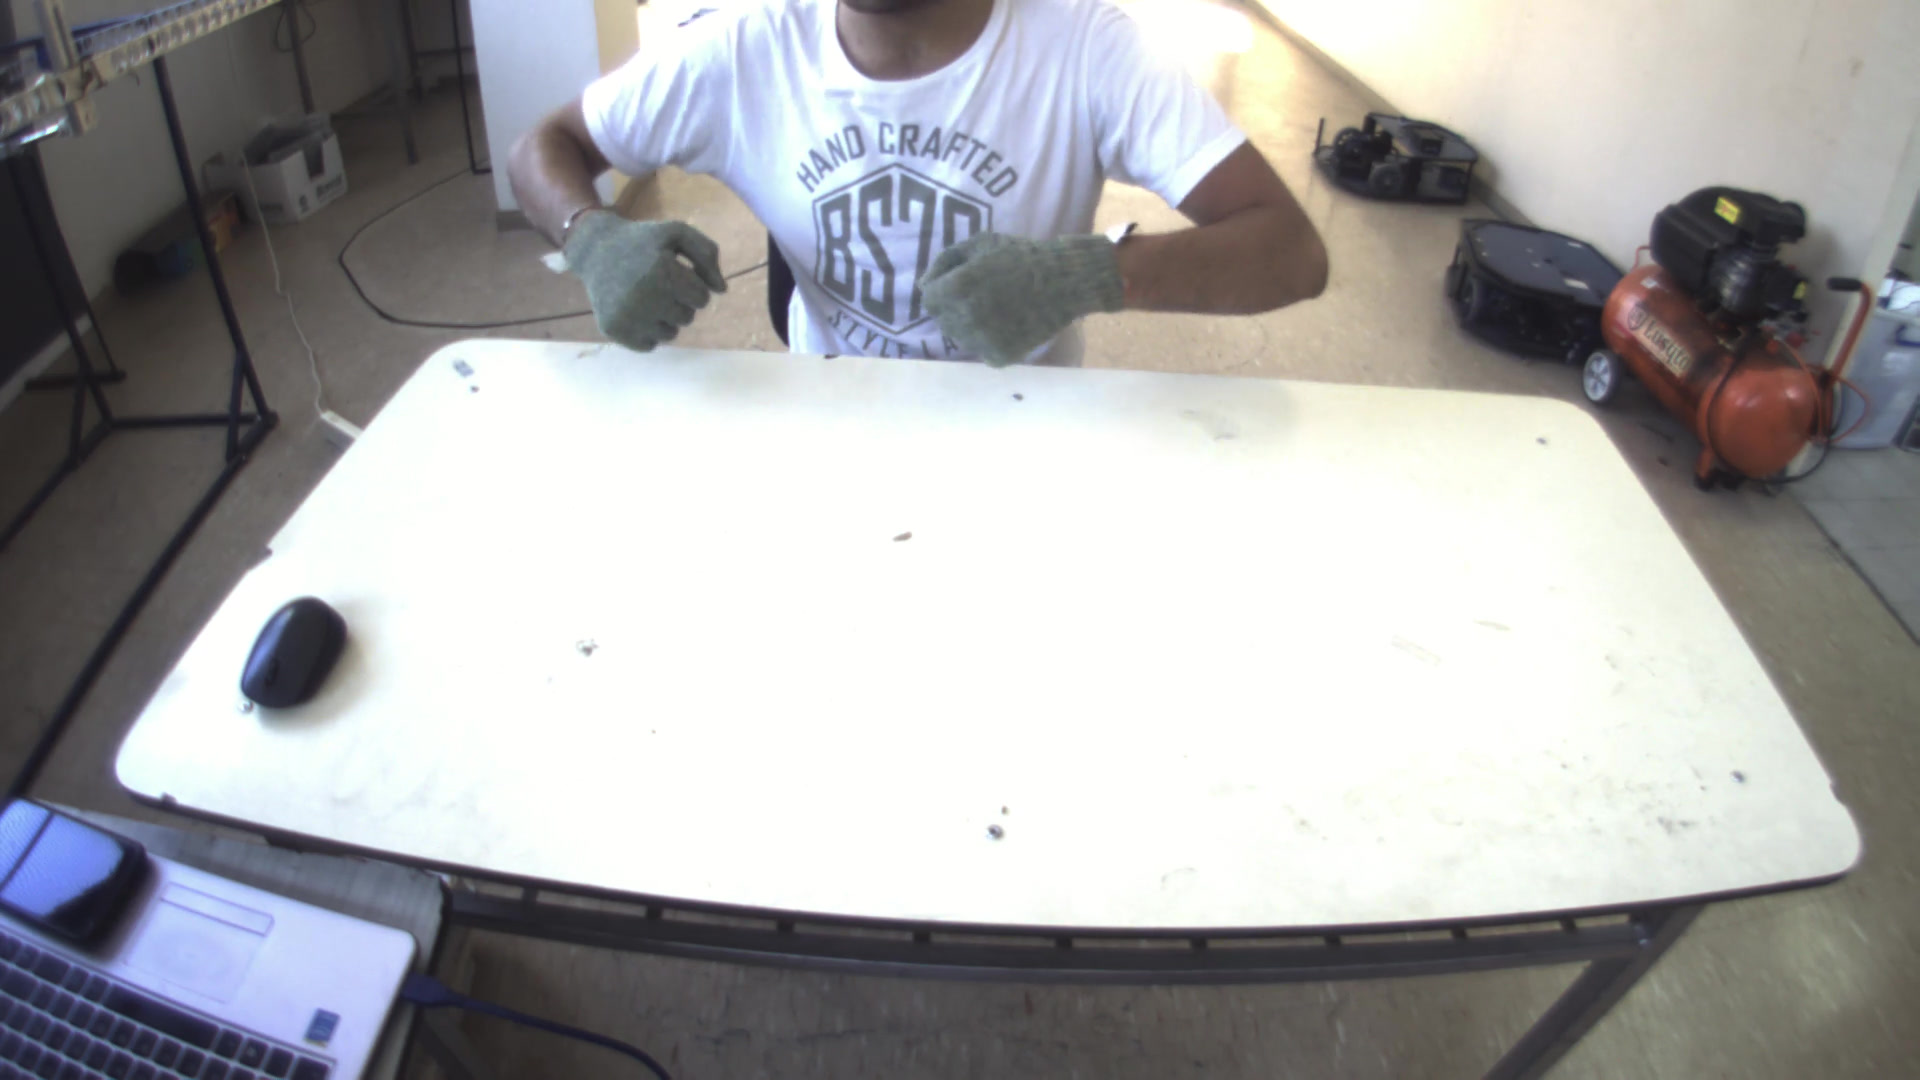hand: (905, 214, 1131, 360), (541, 196, 732, 349)
